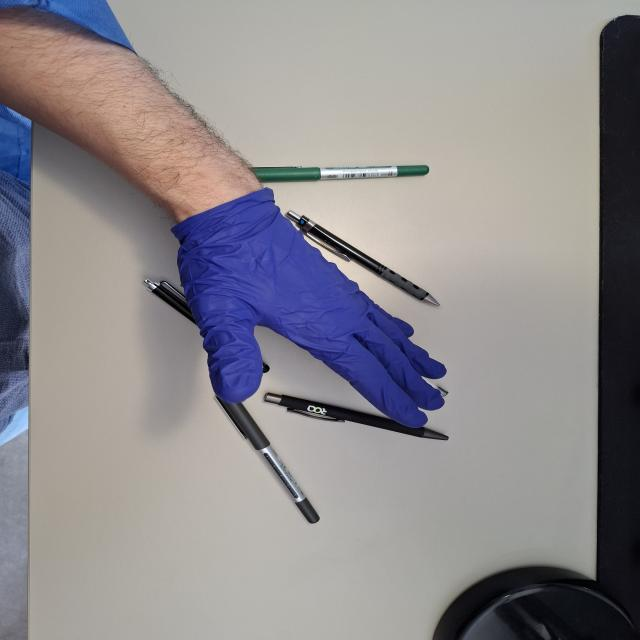glove_on: (168, 189, 450, 431)
